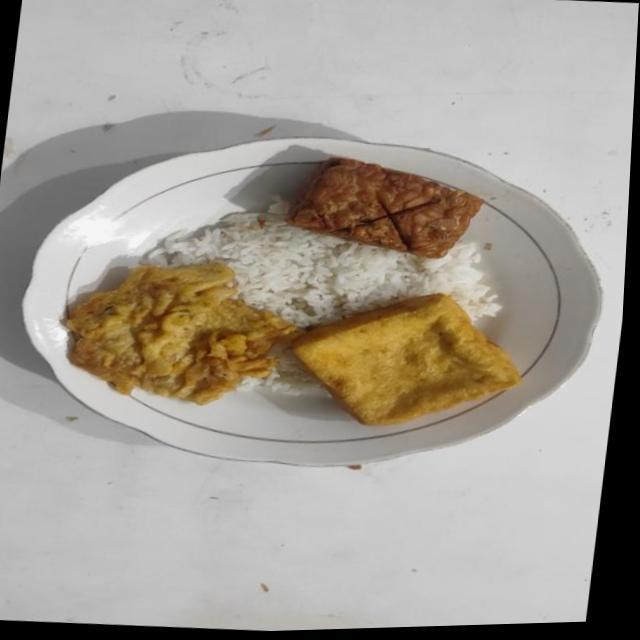nasi_putih: (140, 194, 500, 334), (242, 340, 320, 394)
tahu_goreng: (292, 293, 520, 425)
tempe_goreng: (287, 157, 483, 258)
